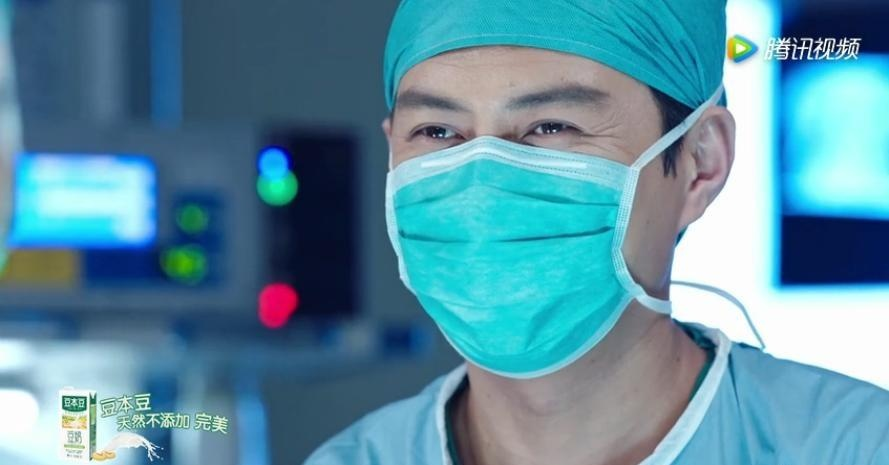Mask: (391, 80, 679, 368)
